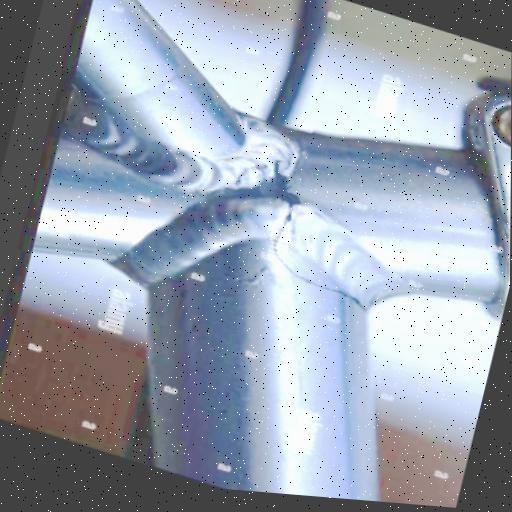crack: (259, 185, 388, 318)
